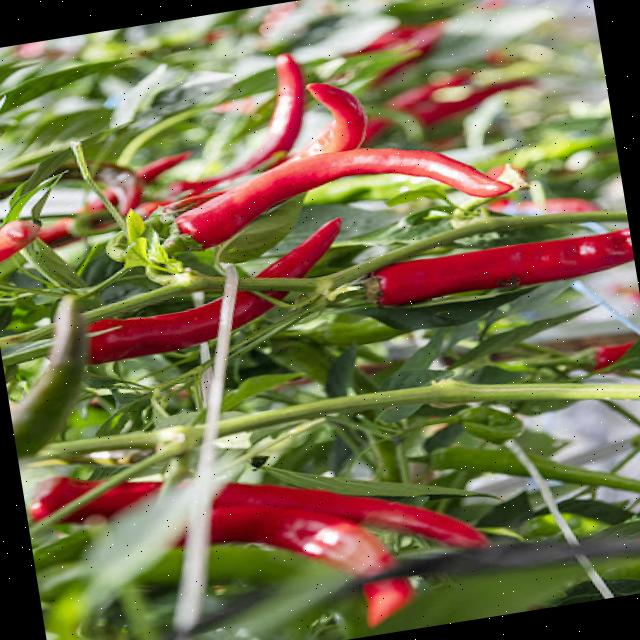chili: (175, 147, 512, 248), (27, 476, 488, 548), (372, 229, 634, 305), (88, 299, 221, 362), (258, 219, 341, 276), (31, 475, 97, 519), (232, 291, 273, 327)
